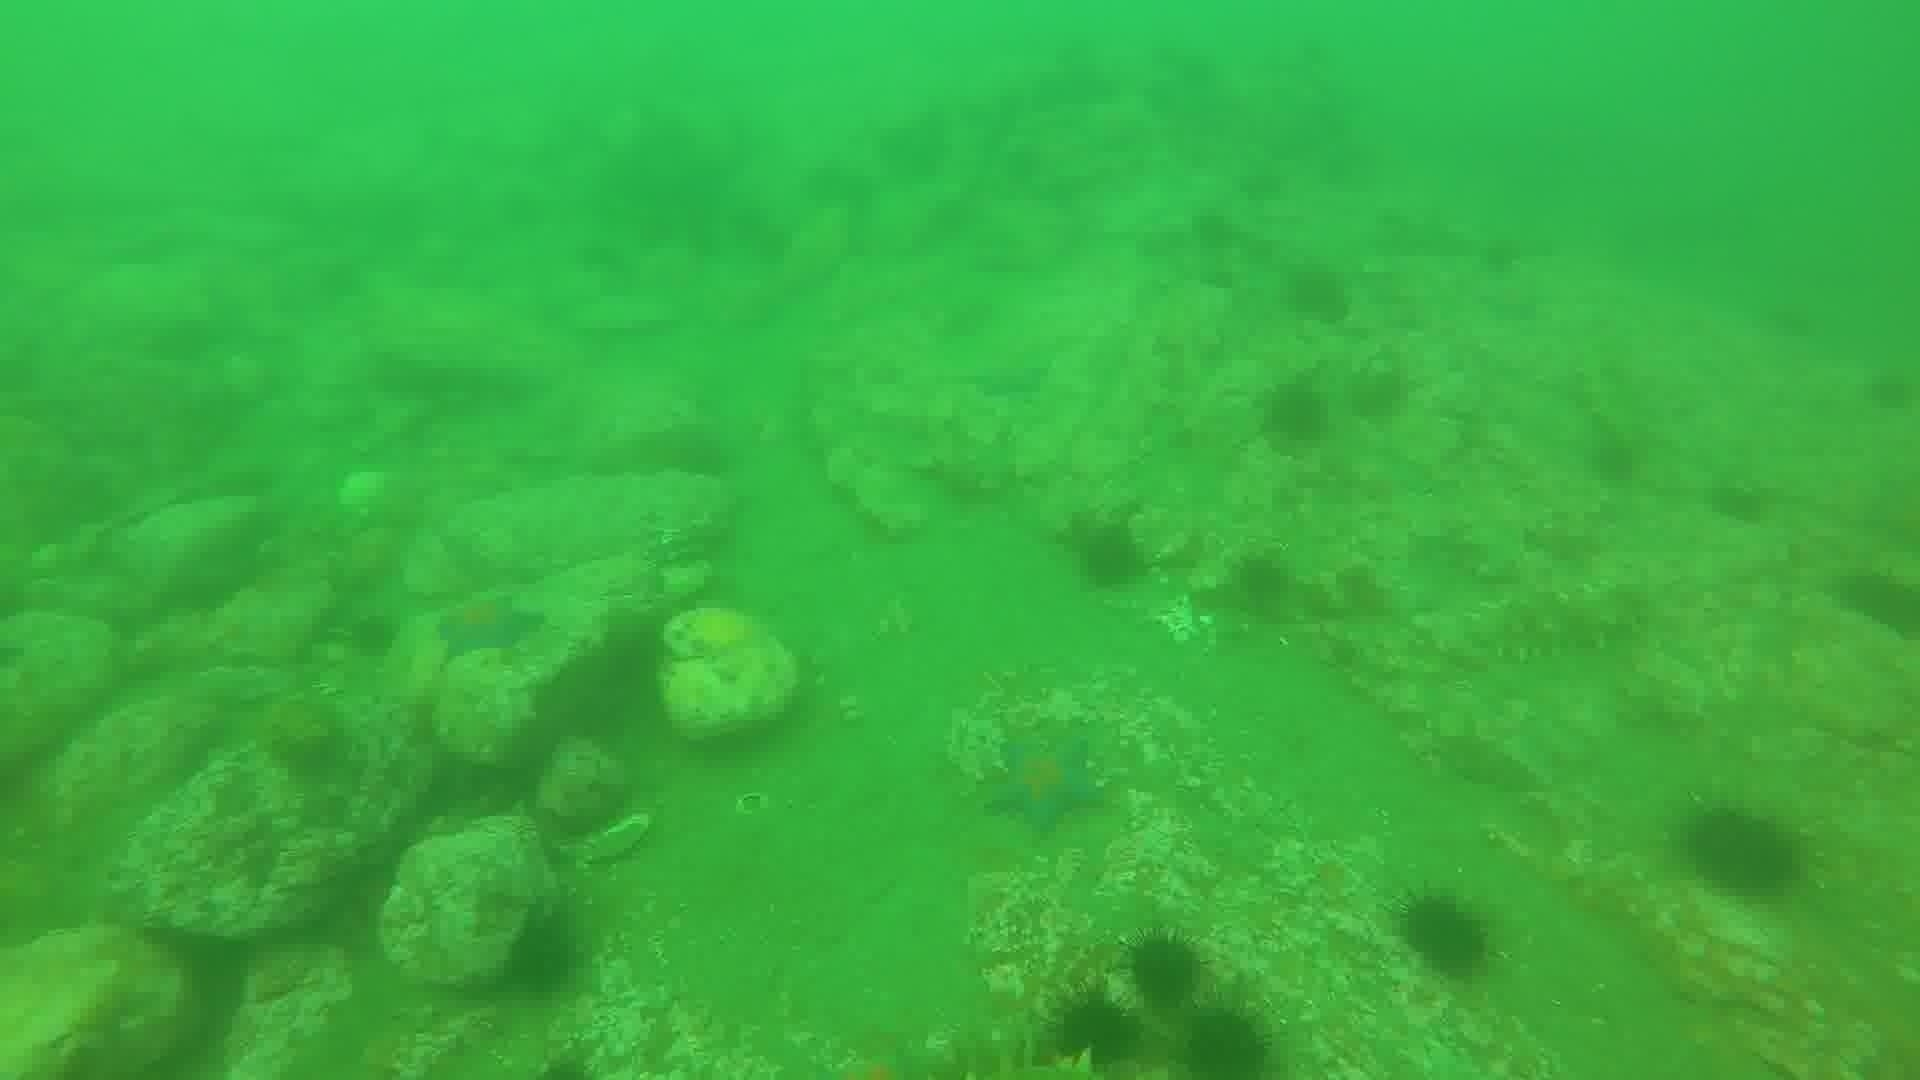echinus: (1677, 800, 1805, 903), (1394, 889, 1498, 985), (1036, 989, 1146, 1072), (498, 909, 587, 1002), (1175, 1004, 1276, 1077), (1121, 928, 1211, 1011), (1832, 564, 1920, 644), (1255, 376, 1335, 454), (1069, 518, 1149, 595), (1225, 549, 1298, 622), (1280, 258, 1356, 328), (1342, 360, 1414, 429), (1702, 473, 1775, 530), (1582, 429, 1647, 491), (342, 608, 404, 665)
holothurian: (1466, 582, 1650, 667)
starfish: (978, 725, 1109, 837), (430, 588, 547, 663), (959, 345, 1058, 404)
